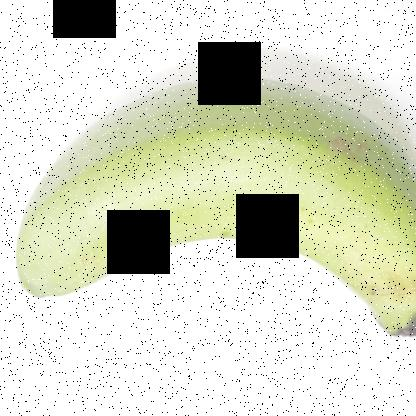freshunripe: (1, 53, 415, 362)
